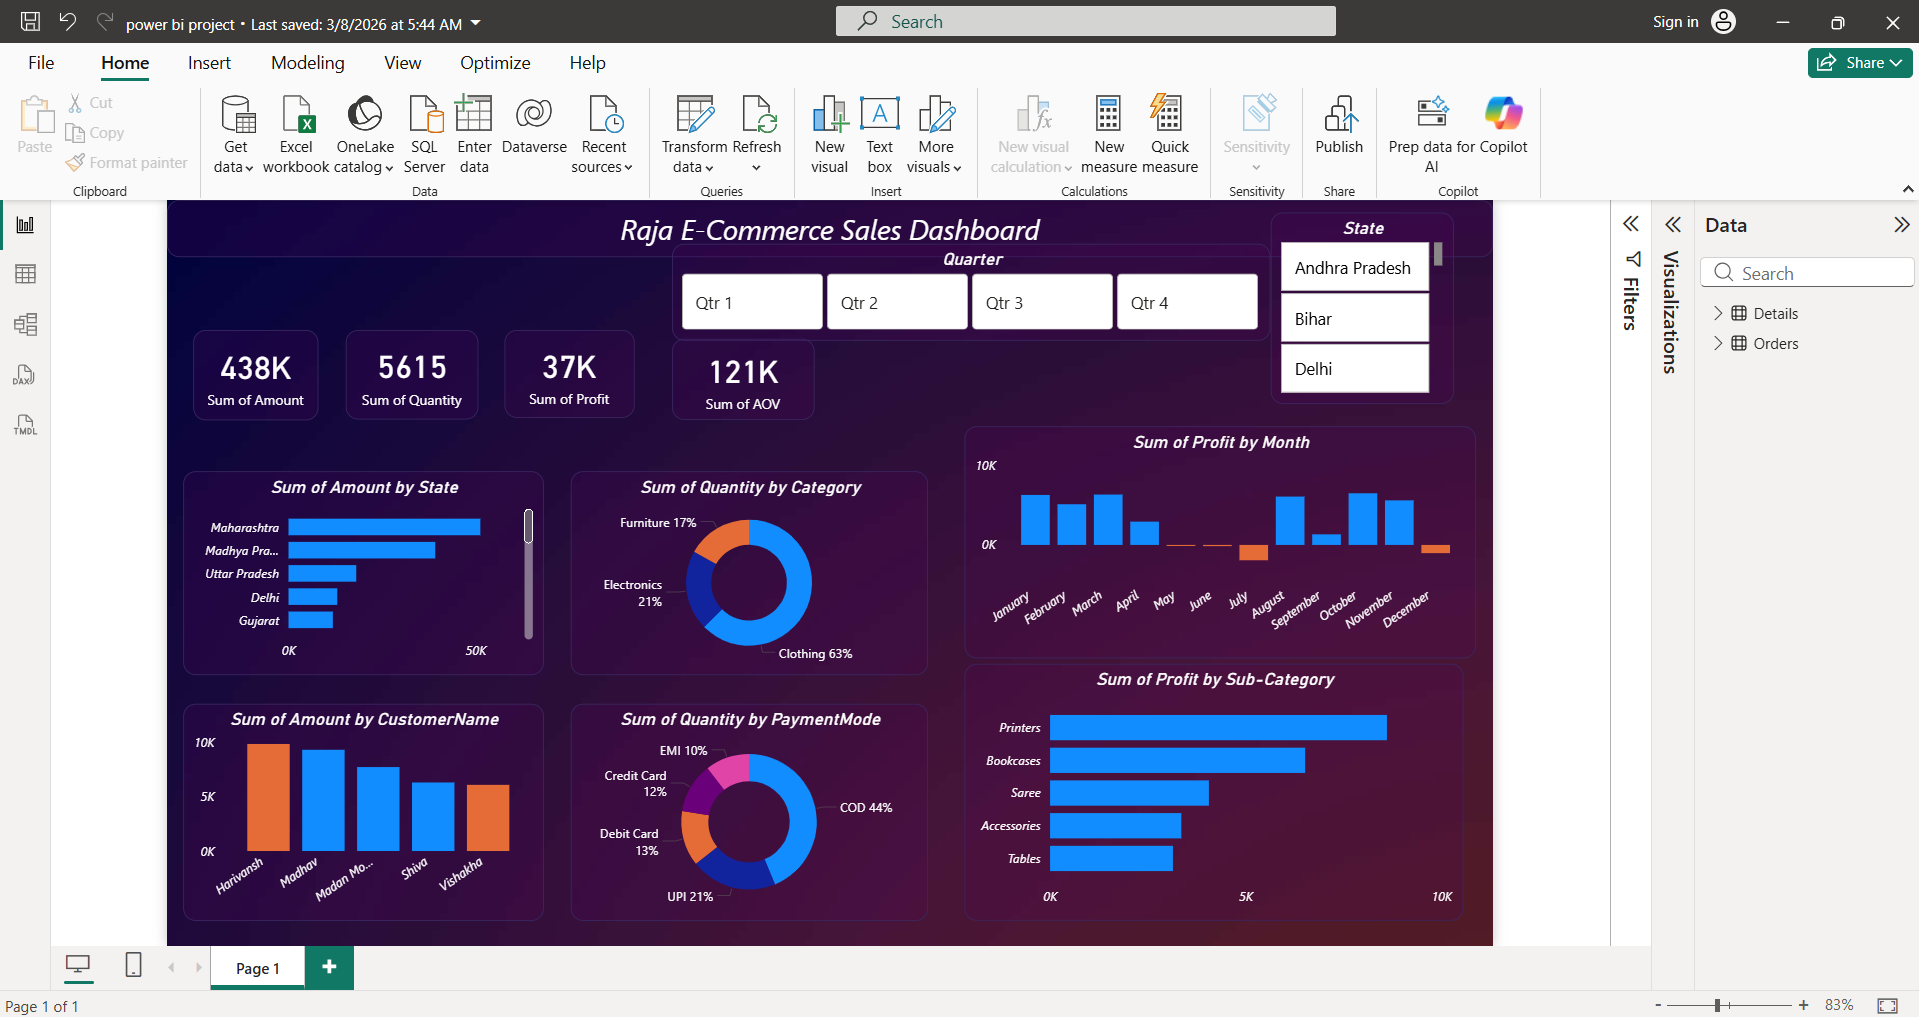

The dashboard page shown, as its layout file describes it:
{"tool":"powerbi","page":{"name":"Page 1","canvas":[1280,720],"ordinal":0},"visuals":[{"type":"textbox","box":[0,0,1280,55.6],"z":0},{"type":"columnChart","fields":{"Y":["Sum(Details.Profit)"],"Category":["Orders.Order Date.Variation.Date Hierarchy.Month"]},"box":[769.7,218.7,493.5,224.3],"z":1000},{"type":"barChart","fields":{"Category":["Details.Sub-Category"],"Y":["Sum(Details.Profit)"]},"box":[769.7,447.6,481.8,248],"z":2000},{"type":"donutChart","fields":{"Category":["Details.Category"],"Y":["Sum(Details.Quantity)"]},"box":[389.1,262.3,344.9,196.7],"z":3000},{"type":"donutChart","fields":{"Category":["Details.PaymentMode","Details.Category"],"Y":["Sum(Details.Quantity)"]},"box":[389.1,486.1,344.9,209.5],"z":4000},{"type":"card","fields":{"Values":["Sum(Details.Amount)"]},"box":[25.7,125.4,121.2,86.9],"z":5000},{"type":"card","fields":{"Values":["Sum(Details.Quantity)"]},"box":[206.7,131.1,128.3,86.9],"z":6000},{"type":"card","fields":{"Values":["Sum(Details.Profit)"]},"box":[363.5,135.4,125.4,84.1],"z":7000},{"type":"card","fields":{"Values":["Sum(Details.AOV)"]},"box":[561.6,135.4,138.3,78.4],"z":8000},{"type":"barChart","fields":{"Category":["Orders.State"],"Y":["Sum(Details.Amount)"]},"box":[15.7,262.3,347.8,196.7],"z":9000},{"type":"columnChart","fields":{"Y":["Sum(Details.Amount)"],"Category":["Orders.CustomerName"]},"box":[15.7,486.1,347.8,209.5],"z":10000},{"type":"advancedSlicerVisual","fields":{"Values":["Orders.Order Date.Variation.Date Hierarchy.Quarter"]},"box":[487.9,42.1,577.6,93.9],"z":11000},{"type":"advancedSlicerVisual","fields":{"Values":["Orders.State"]},"box":[1065.5,12.6,176.6,185.1],"z":11001}]}

Visuals, with their boxes on the page's 1280x720 design canvas (x1, y1, x2, y2). These are canvas units, not pixel positions in the 1919x1017 screenshot, which may show the page scaled, cropped or inside an application window:
textbox: (left=0, top=0, right=1280, bottom=56)
columnChart - Sum(Details.Profit) x Orders.Order Date.Variation.Date Hierarchy.Month: (left=770, top=219, right=1263, bottom=443)
barChart - Details.Sub-Category x Sum(Details.Profit): (left=770, top=448, right=1252, bottom=696)
donutChart - Details.Category x Sum(Details.Quantity): (left=389, top=262, right=734, bottom=459)
donutChart - Details.PaymentMode x Details.Category: (left=389, top=486, right=734, bottom=696)
card - Sum(Details.Amount): (left=26, top=125, right=147, bottom=212)
card - Sum(Details.Quantity): (left=207, top=131, right=335, bottom=218)
card - Sum(Details.Profit): (left=364, top=135, right=489, bottom=220)
card - Sum(Details.AOV): (left=562, top=135, right=700, bottom=214)
barChart - Orders.State x Sum(Details.Amount): (left=16, top=262, right=364, bottom=459)
columnChart - Sum(Details.Amount) x Orders.CustomerName: (left=16, top=486, right=364, bottom=696)
advancedSlicerVisual - Orders.Order Date.Variation.Date Hierarchy.Quarter: (left=488, top=42, right=1066, bottom=136)
advancedSlicerVisual - Orders.State: (left=1066, top=13, right=1242, bottom=198)
